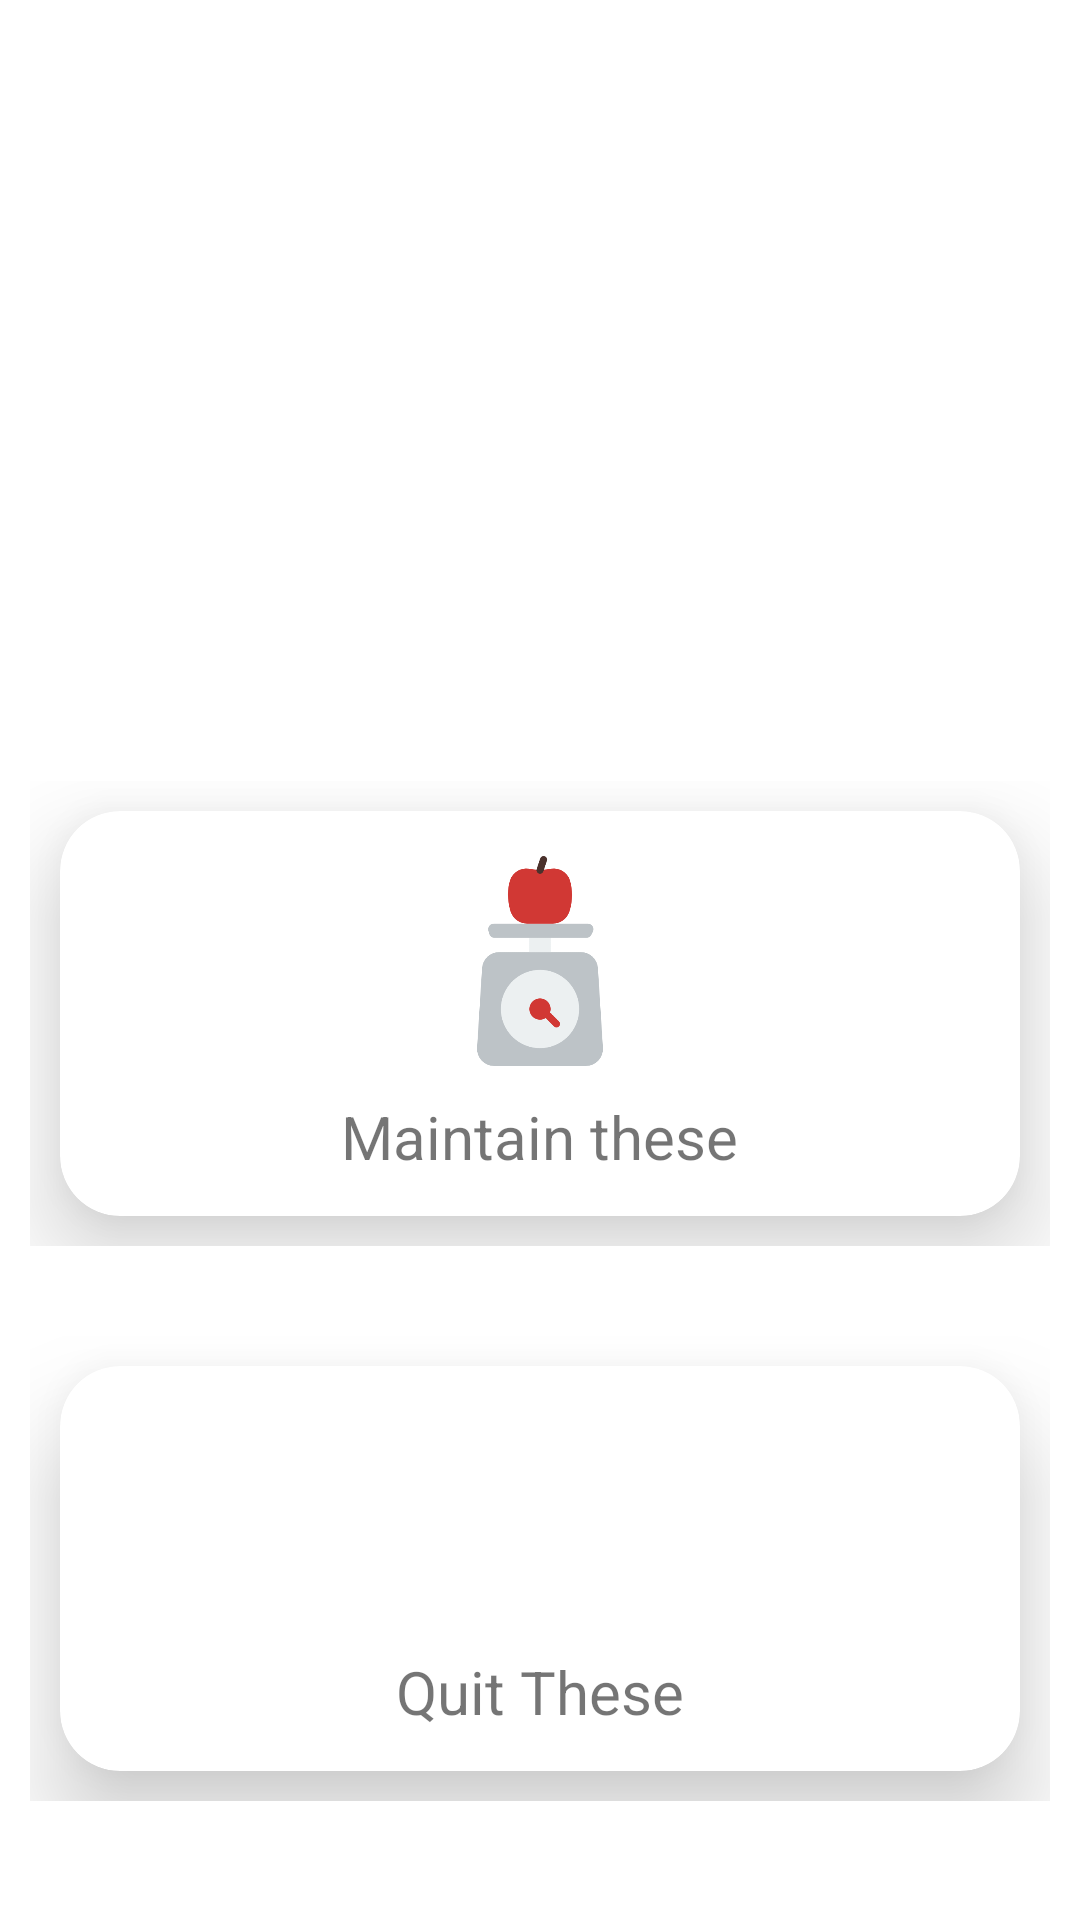

Named icons in this screenshot (1080px x 1920px) and their centers, (x=x, y=y):
scale: (x=540, y=961)
